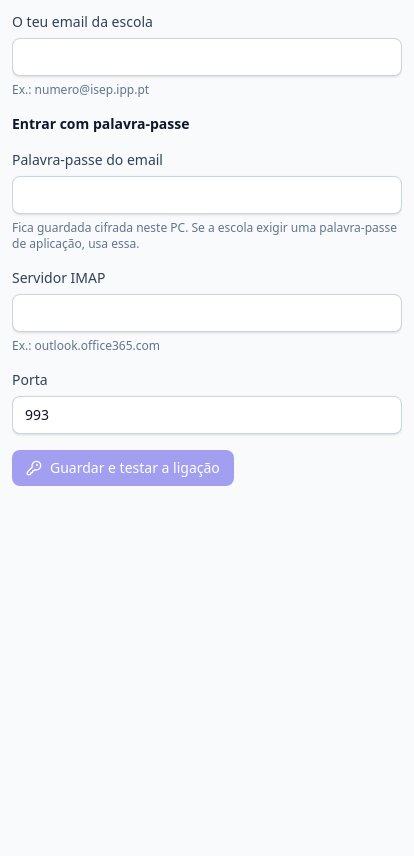
Test case: EmailSetup: entrar com a conta da escola (Microsoft) › se o utilizador fechar a janela diz que cancelou e não liga nada
Type "aluno@isep.ipp.pt" into the field labelled "O teu email da escola" at (207, 57), box [12,38,402,76]
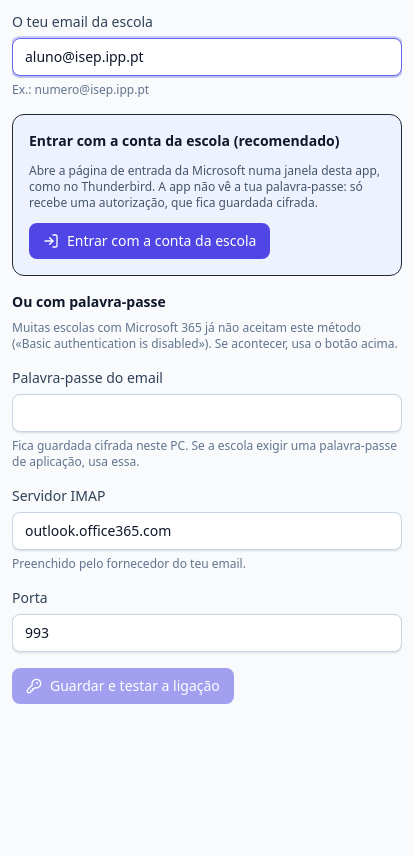
Click the button "Entrar com a conta da escola" at (150, 241), box [29,223,270,259]
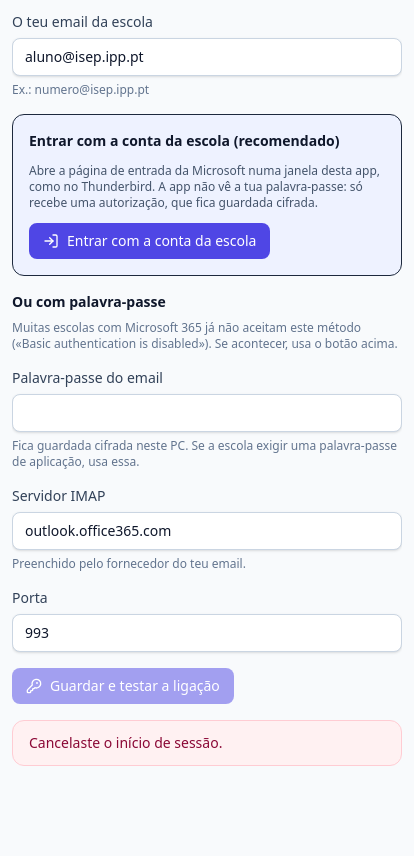
Now the text "Cancelaste o início de sessão." is shown, box [12,720,402,766]
